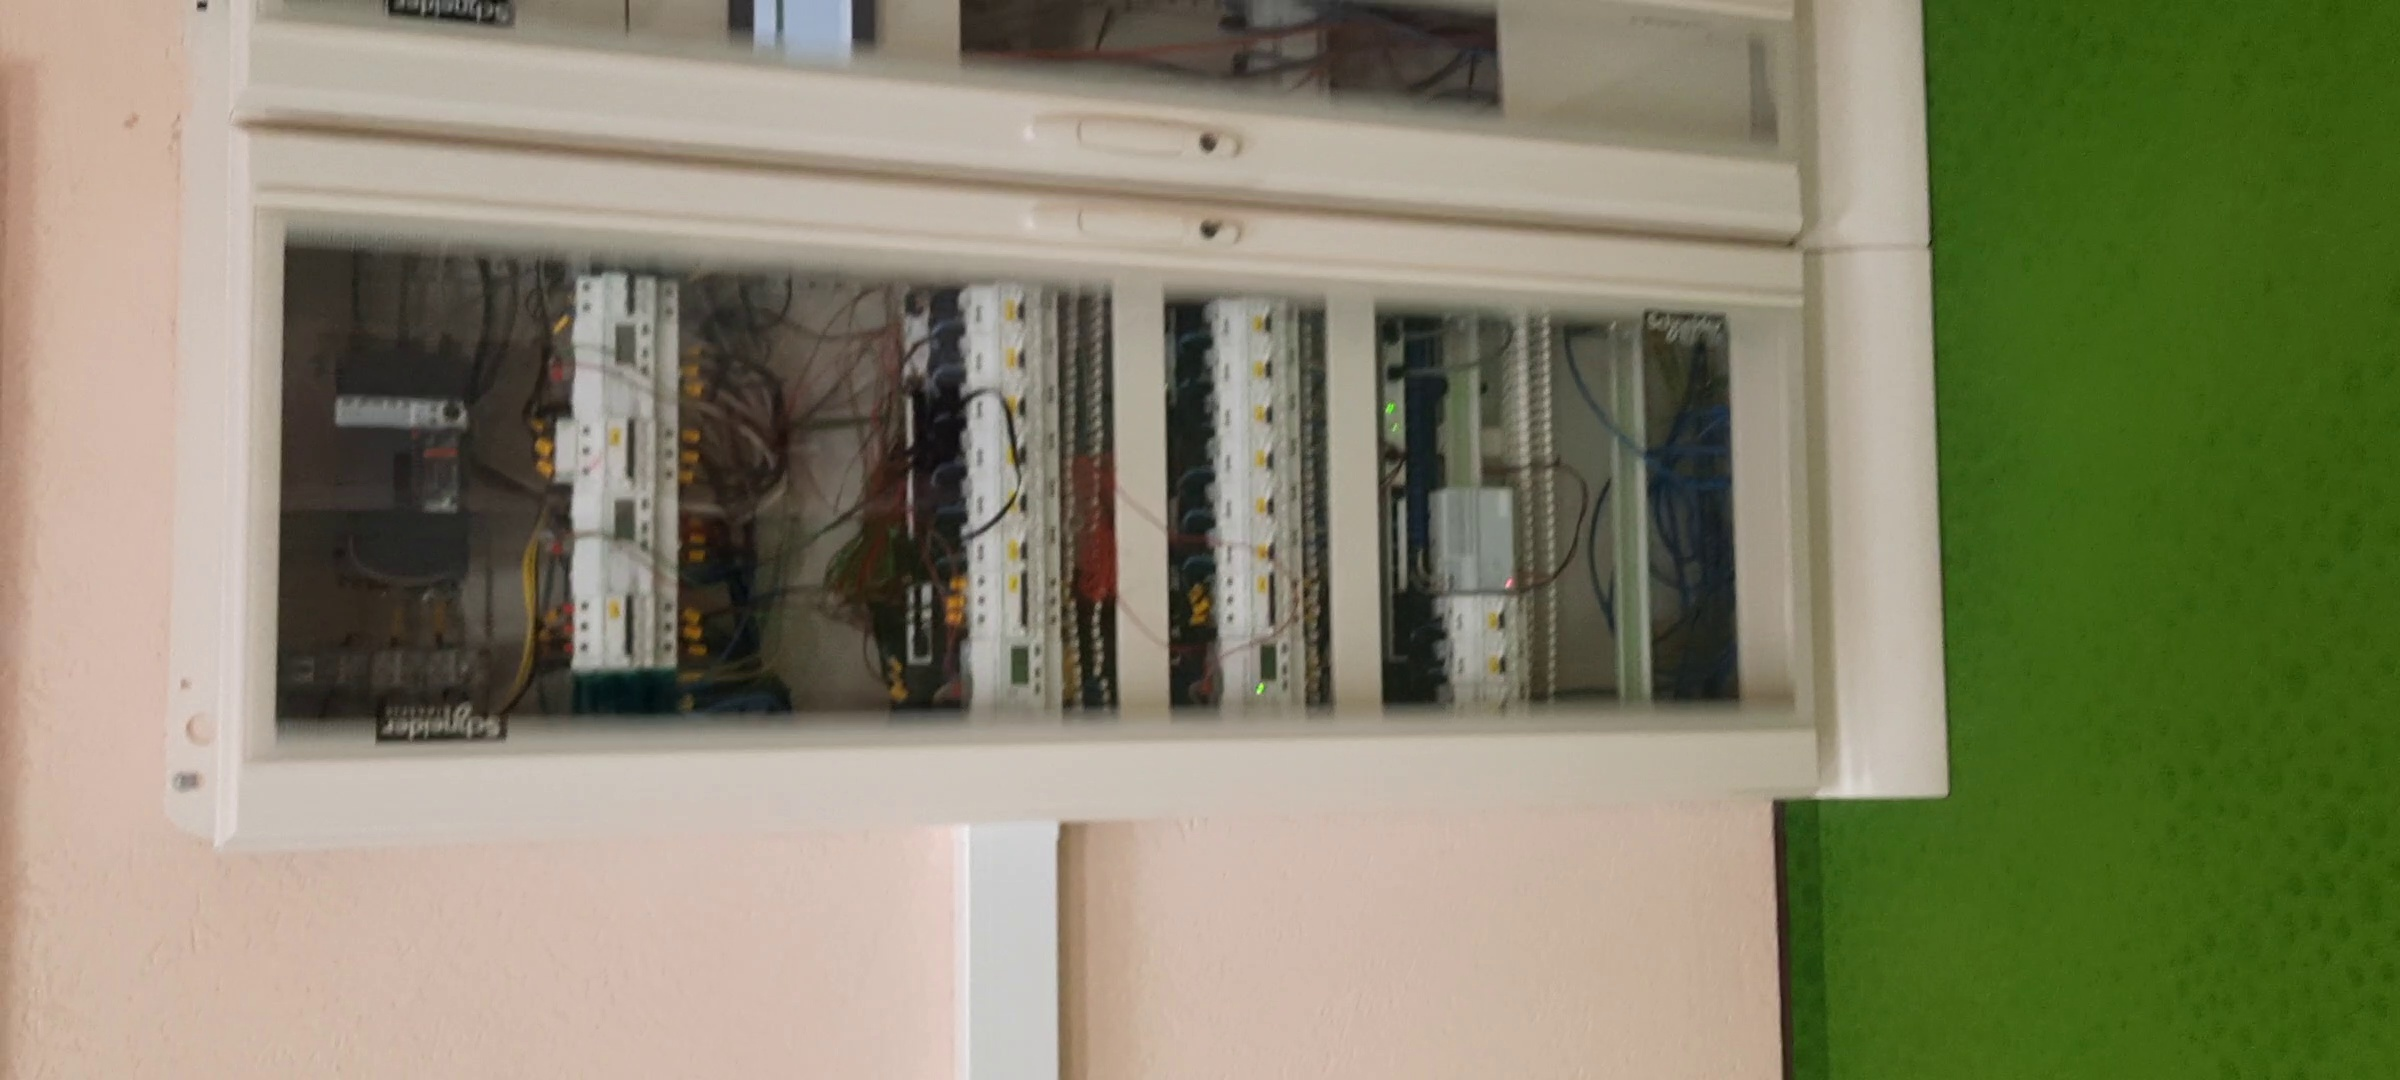stand1: (213, 2, 1955, 805)
